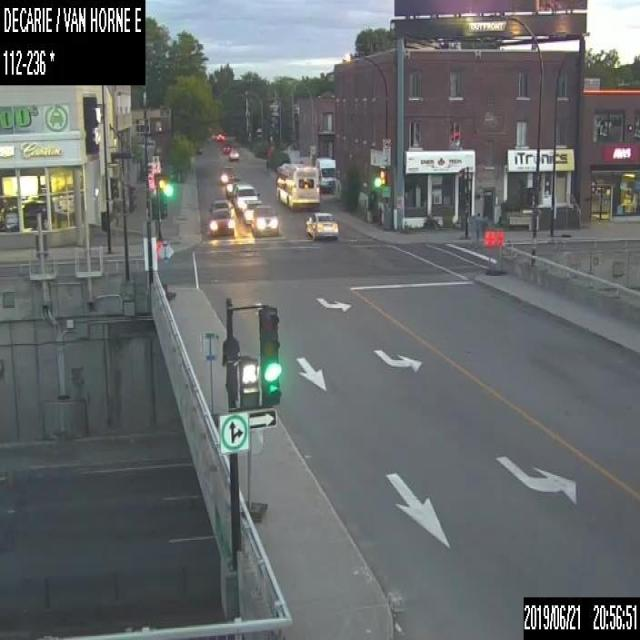bus: (276, 161, 319, 208)
construction: (241, 426, 267, 520), (201, 331, 225, 429), (158, 238, 175, 302), (493, 230, 507, 276), (483, 228, 493, 275)
pedestrian: (481, 212, 489, 241), (474, 212, 480, 249)
vehicle: (250, 204, 278, 236), (304, 211, 338, 237), (233, 182, 260, 214), (206, 208, 234, 236), (315, 156, 334, 194), (242, 198, 263, 223), (209, 198, 233, 217), (226, 175, 240, 197), (220, 165, 234, 183), (228, 148, 240, 160), (223, 142, 232, 152), (216, 132, 224, 140)
